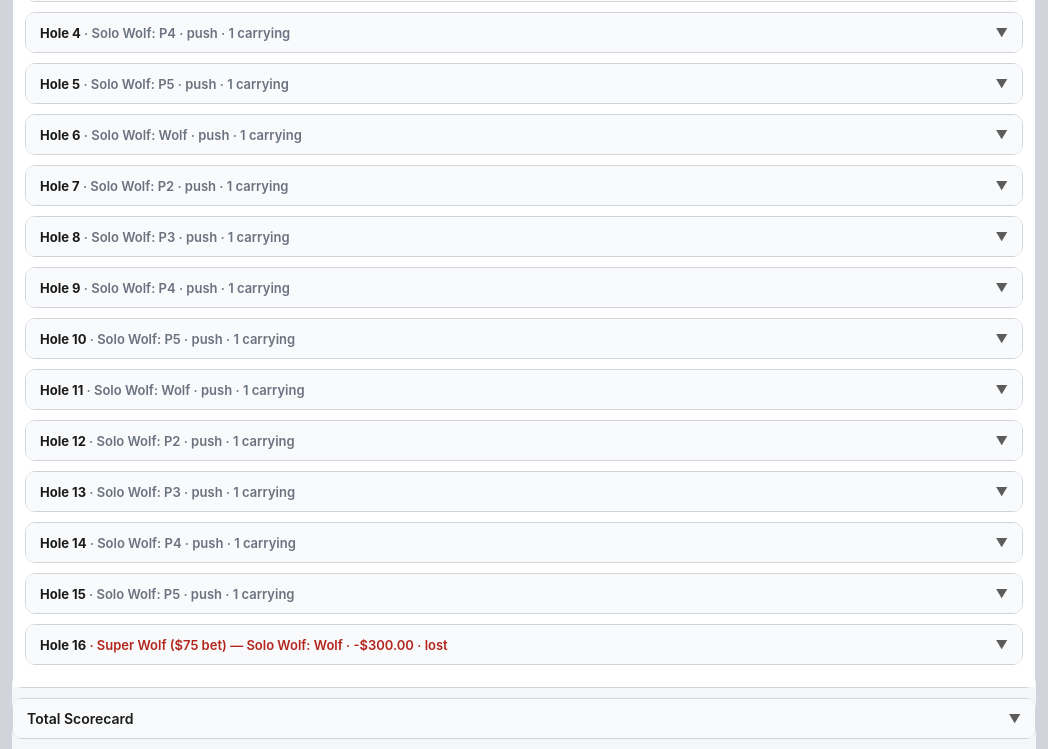
it: WolfAudit — Level 1 (per-hole) and Level 2 (detail) › Super Wolf holes show the actual bet amount used, in both Level 1 and Level 2
The width and height of the screenshot is (1048, 749).
(page scrolled)
What coordinates should you click on to do the following:
click the text "Hole 16"
I would click on:
 (56, 645)
Its box is [40,637,86,653].
(page scrolled)
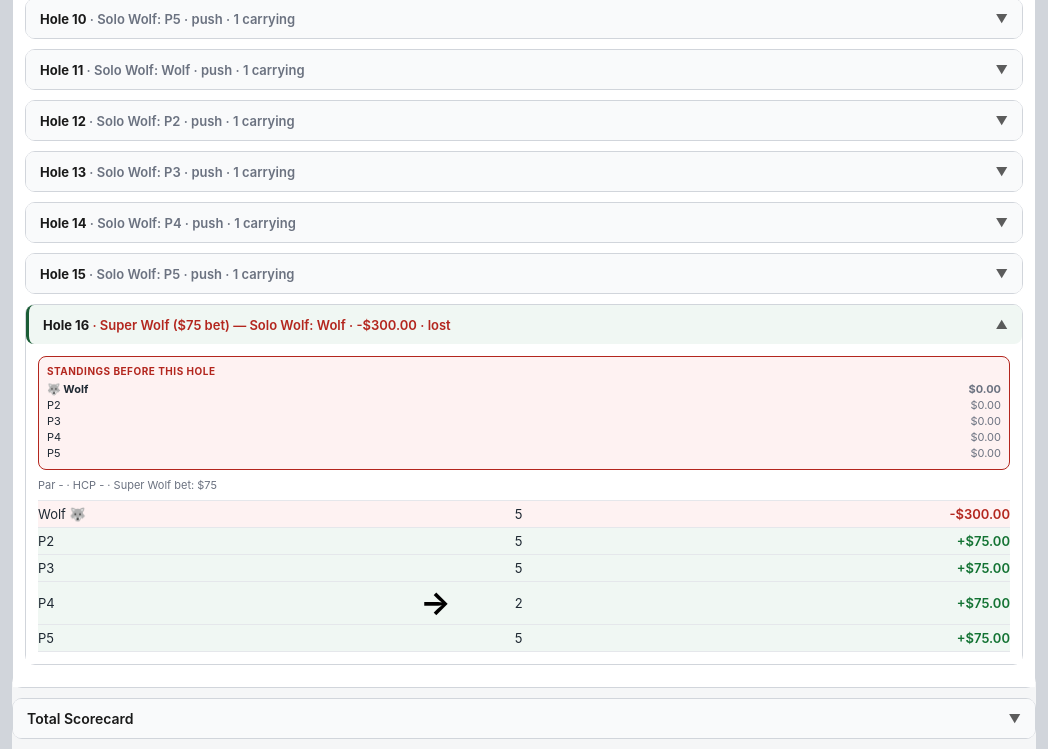
Expected: the text "Par - · HCP - · Super Wolf bet: $75" is shown, [38,478,217,492]
